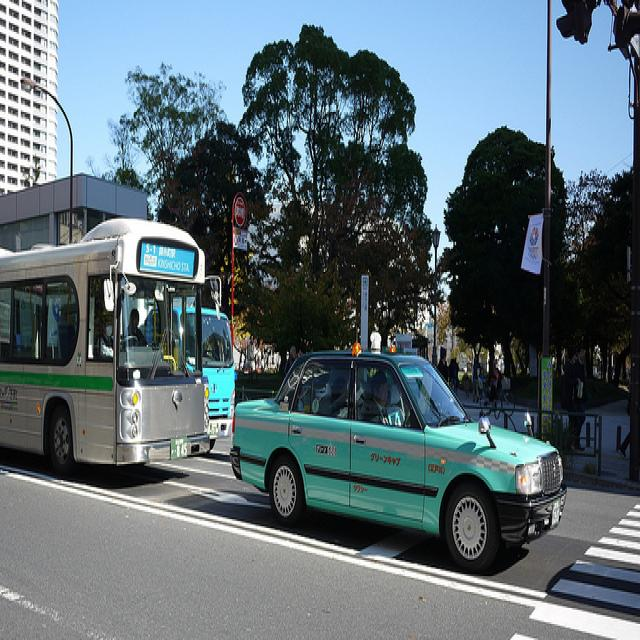Vehicle: (228, 343, 567, 576), (4, 207, 214, 475), (174, 309, 234, 438), (201, 309, 236, 452)
